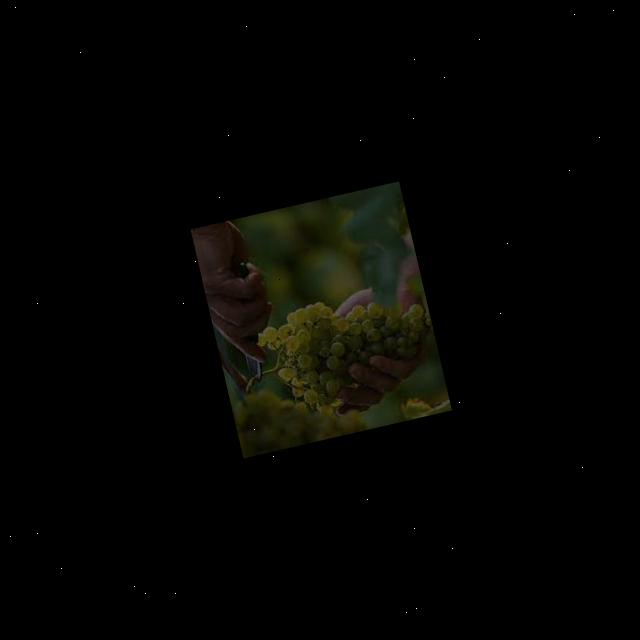grape: (248, 277, 444, 427)
